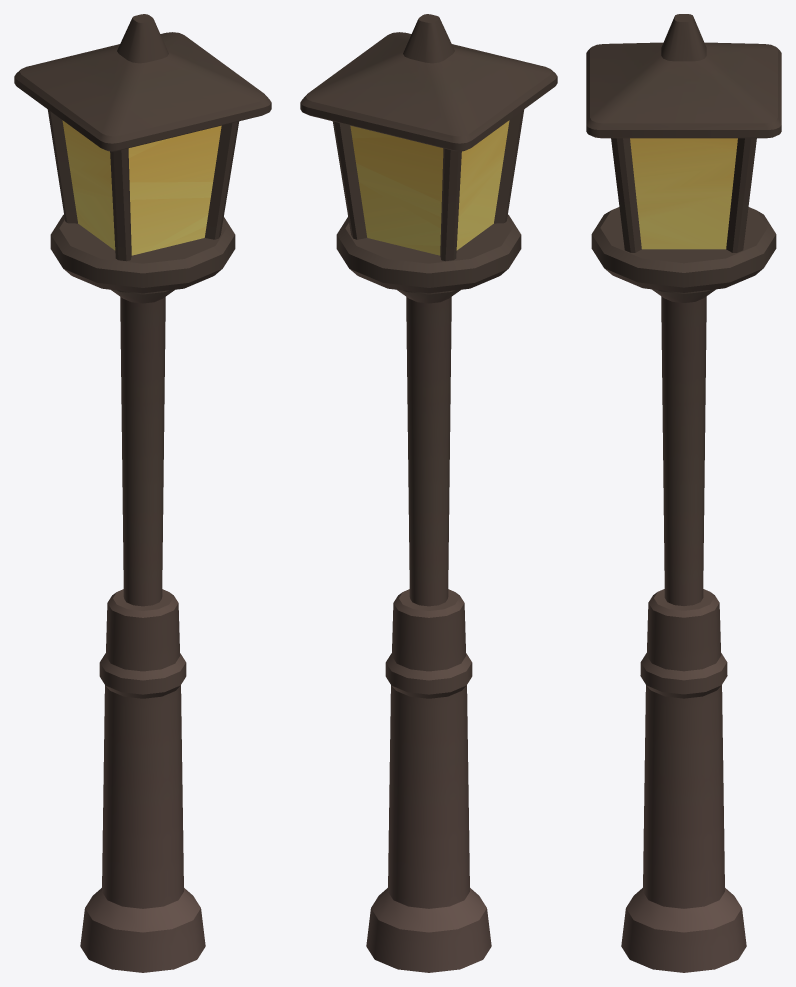
File: Lamp_1_3.obj
3 renders of one model, left to right at view 1: azimuth 30°, elevation 25°; view 2: azimuth 150°, elevation 25°; view 3: azimuth 270°, elevation 25°, orthographic.
Parts seen in each view (by area): view 1: Lamp_1_3; view 2: Lamp_1_3; view 3: Lamp_1_3.
Part boxes in pixels (bbox=[...]): Lamp_1_3: bbox=[14, 14, 271, 972]; Lamp_1_3: bbox=[300, 14, 557, 972]; Lamp_1_3: bbox=[586, 14, 781, 972].
Size of the model in its own units: 0.6015 by 3.15 by 0.6015.
